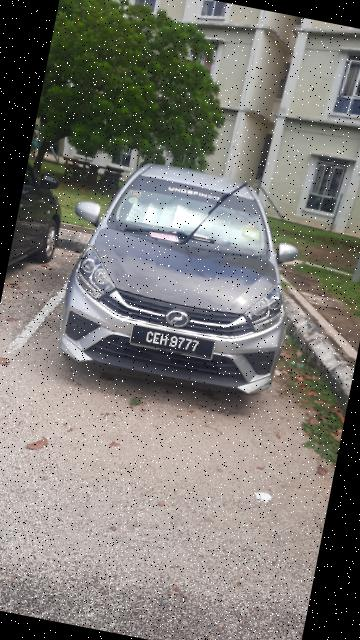License_Plate: (129, 323, 219, 363)
car: (41, 146, 318, 410)
